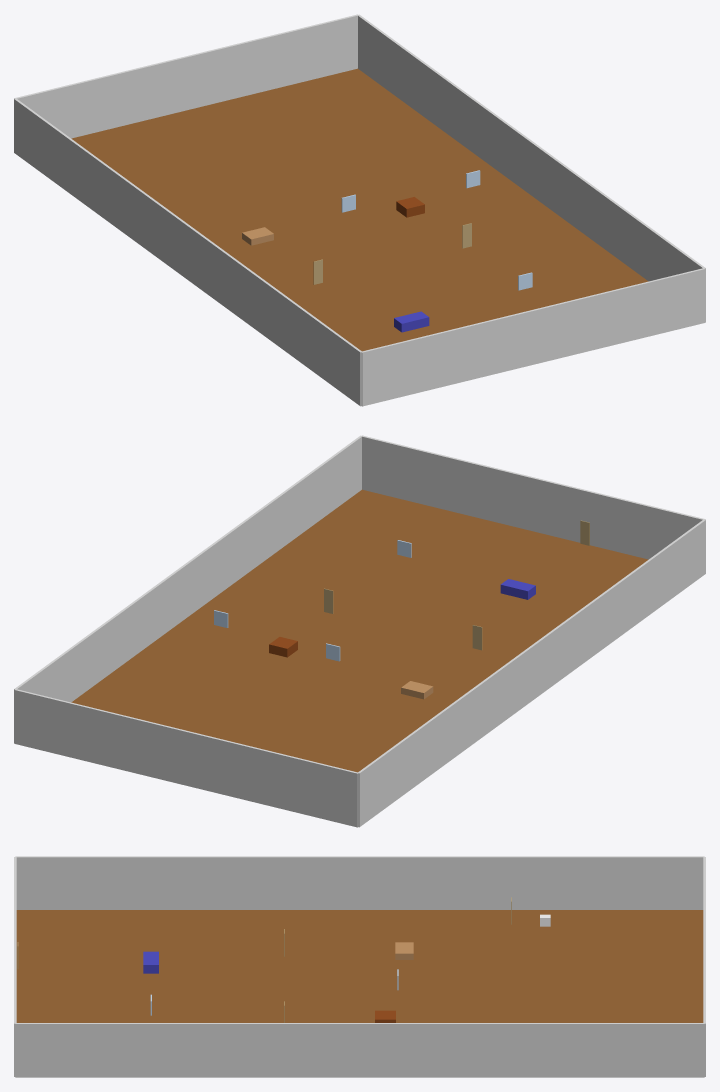
The model's file is improved_architectural_floorplan_3508.obj.
3 views of the same model, one above another, from view 1: azimuth 30°, elevation 25°; view 2: azimuth 150°, elevation 25°; view 3: azimuth 270°, elevation 25° (orthographic).
Visible parts, largest first — view 1: building_floor, exterior_left, exterior_bottom, exterior_right, exterior_top; view 2: building_floor, exterior_left, exterior_top, exterior_right, exterior_bottom; view 3: building_floor, exterior_right, exterior_left, exterior_bottom, exterior_top, Living_Room_1_sofa.
Part boxes in pixels (box(x1,y1,x2,y2)): building_floor: box(71, 68, 648, 351); exterior_left: box(14, 98, 362, 406); exterior_bottom: box(361, 268, 705, 406); exterior_right: box(358, 14, 705, 321); exterior_top: box(14, 14, 358, 138); building_floor: box(71, 489, 648, 772); exterior_left: box(358, 519, 705, 827); exterior_top: box(14, 689, 358, 827); exterior_right: box(14, 435, 361, 742); exterior_bottom: box(361, 435, 705, 559); building_floor: box(16, 910, 703, 1022); exterior_right: box(15, 1023, 704, 1077); exterior_left: box(15, 856, 704, 909); exterior_bottom: box(14, 857, 16, 1076); exterior_top: box(703, 857, 705, 1076); Living_Room_1_sofa: box(143, 951, 158, 973).
Size of the model in its own units: 30.2 by 4.5 by 52.64.
